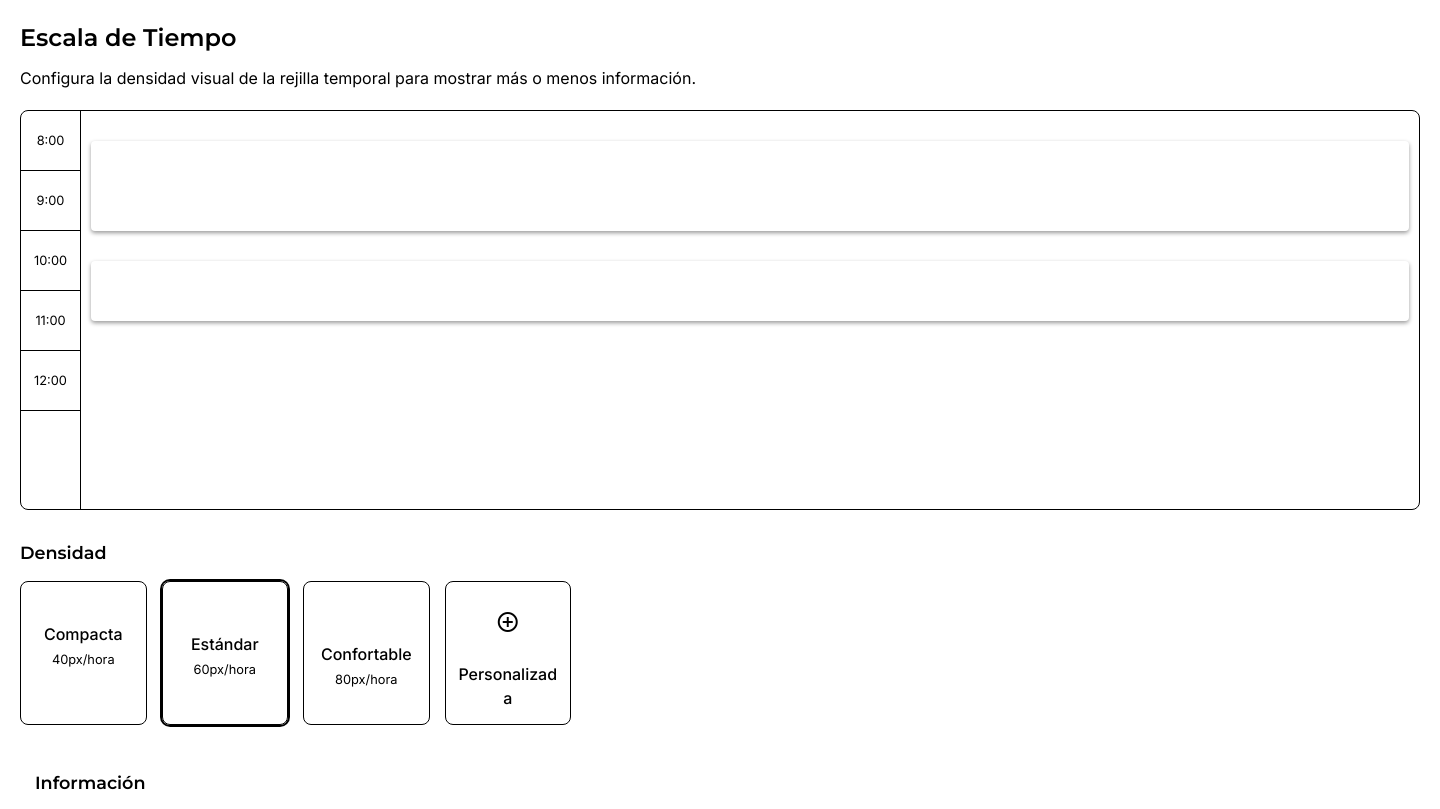
it: TimeScaleConfig Component › debe mostrar el input para altura personalizada al hacer clic en "Personalizada"
The image size is (1440, 809).
Click the text "Personalizada" at (508, 653), box 444,581 -> 571,725
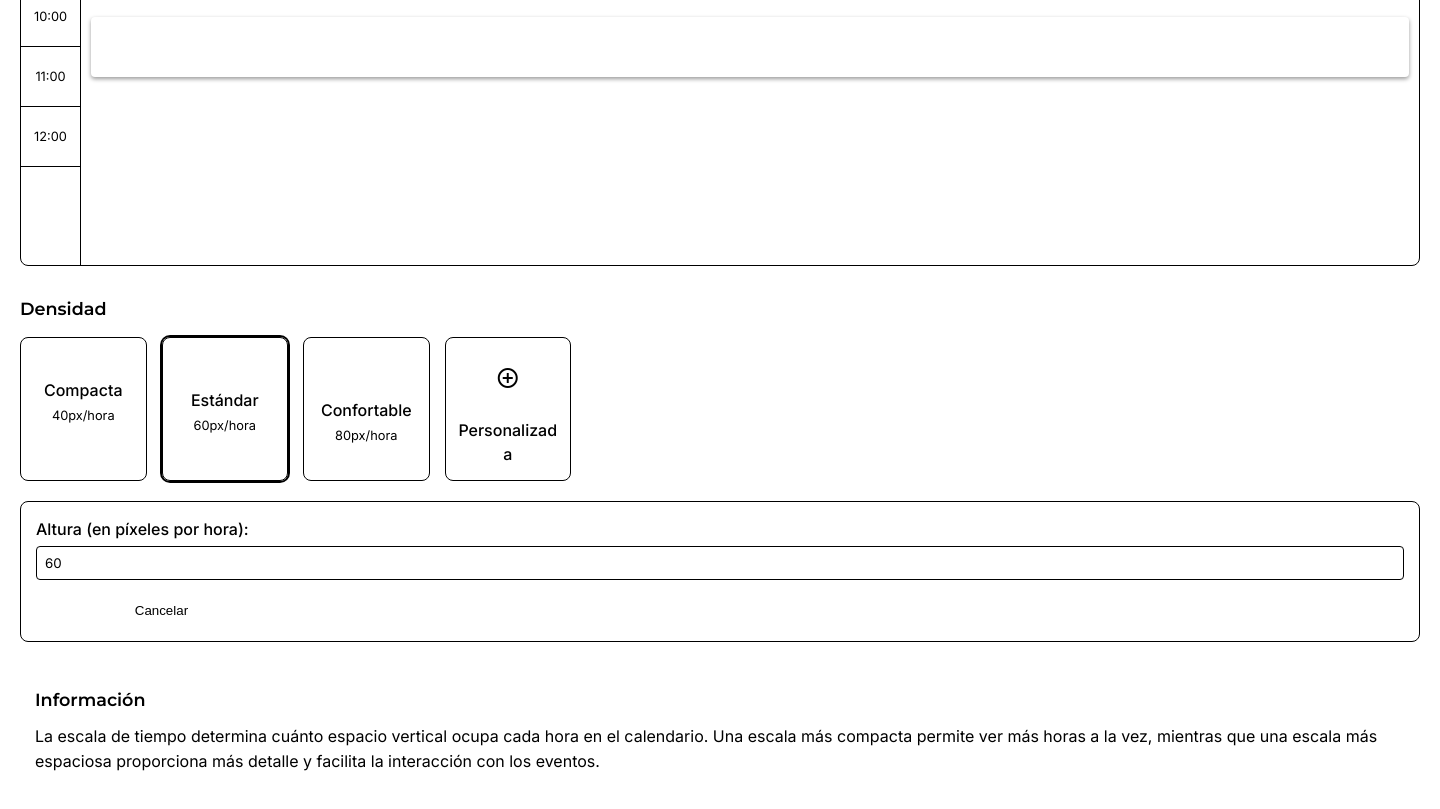
Result: the number field labelled "Altura (en píxeles por hora):" is shown at 36,546 -> 1404,580
